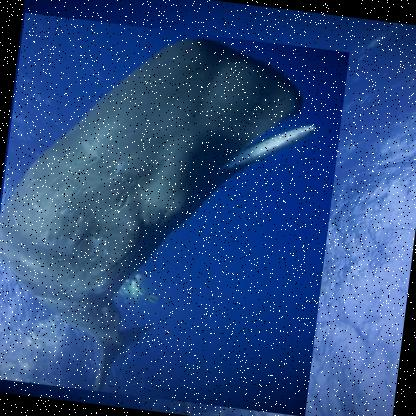sperm_whale: (0, 9, 349, 415)
